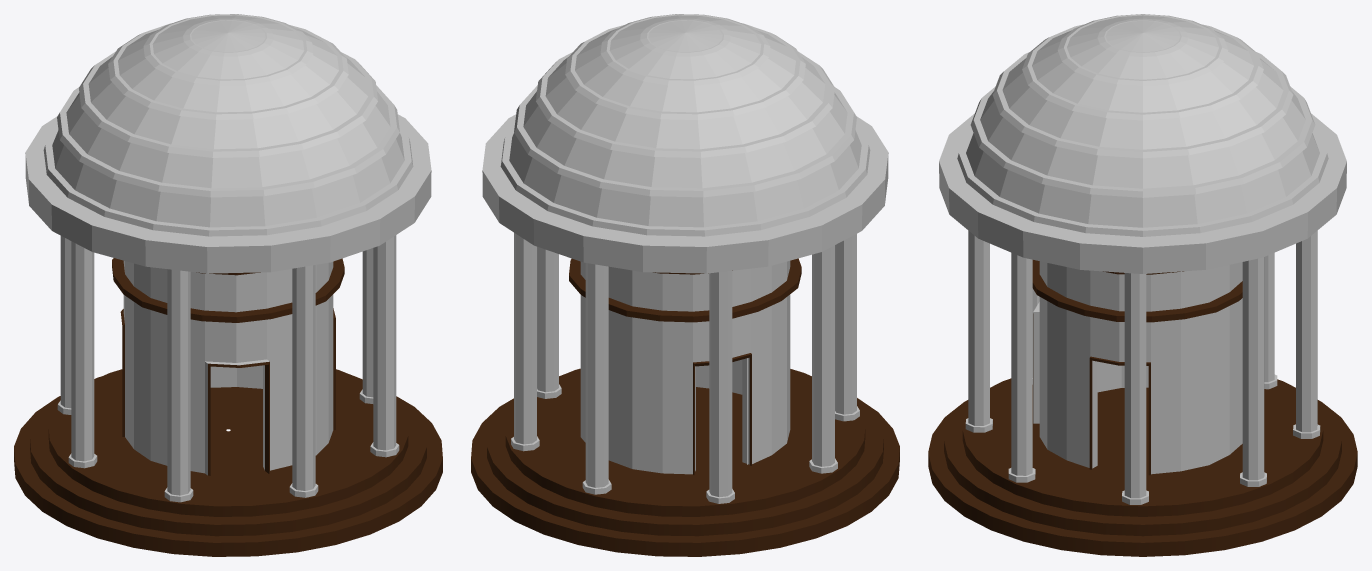
File: Santuarios.fbx
3 renders of one model, left to right at view 1: azimuth 30°, elevation 25°; view 2: azimuth 150°, elevation 25°; view 3: azimuth 270°, elevation 25°, orthographic.
Parts seen in each view (by area): view 1: Temple; view 2: Temple; view 3: Temple.
Part boxes in pixels (x1,y1,x2,y2): Temple: (14, 14, 442, 556); Temple: (471, 14, 899, 556); Temple: (928, 14, 1357, 556).
Bounding box in the file's own units: 105 × 116 × 105.
